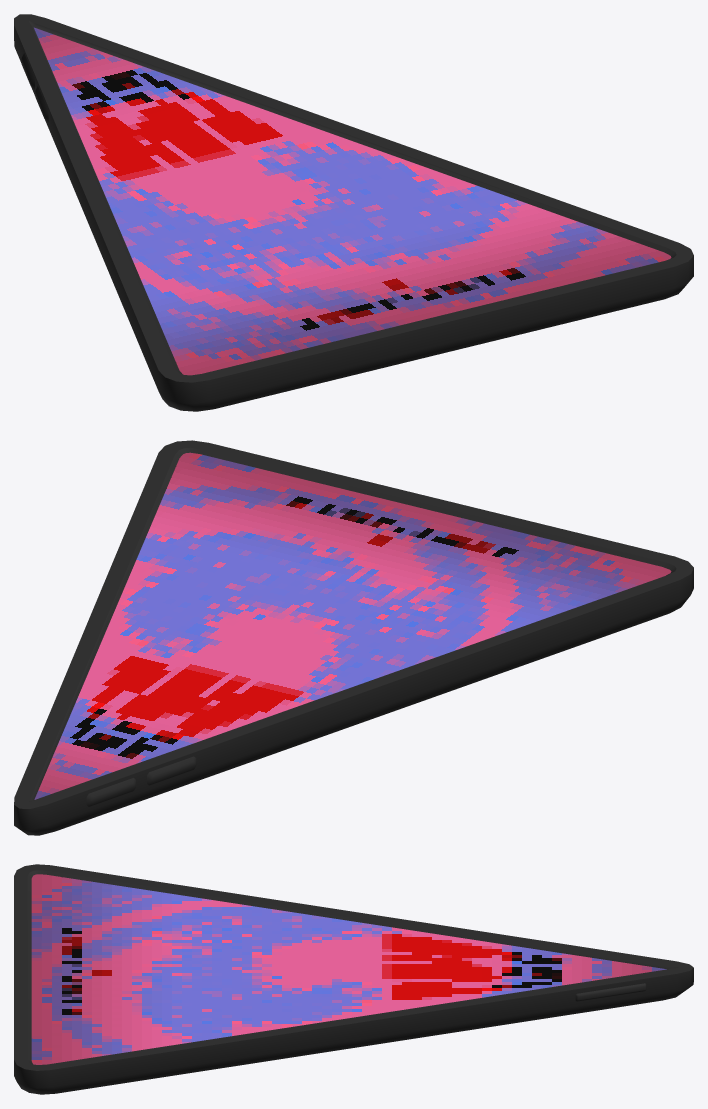
Rendered from triphone.glb.
3 renders of one model, top to bottom at view 1: azimuth 30°, elevation 25°; view 2: azimuth 150°, elevation 25°; view 3: azimuth 270°, elevation 25°, orthographic. The views are drawn at different scales.
Visible parts, largest first — view 1: Plane; view 2: Plane; view 3: Plane.
Part boxes in pixels (box(x1,y1,x2,y2)): Plane: box(14, 14, 693, 411); Plane: box(14, 440, 693, 835); Plane: box(14, 864, 693, 1094).
Size of the model in its own units: 10.57 by 0.8695 by 14.69.
Materials: 2 (1 with a texture image).
